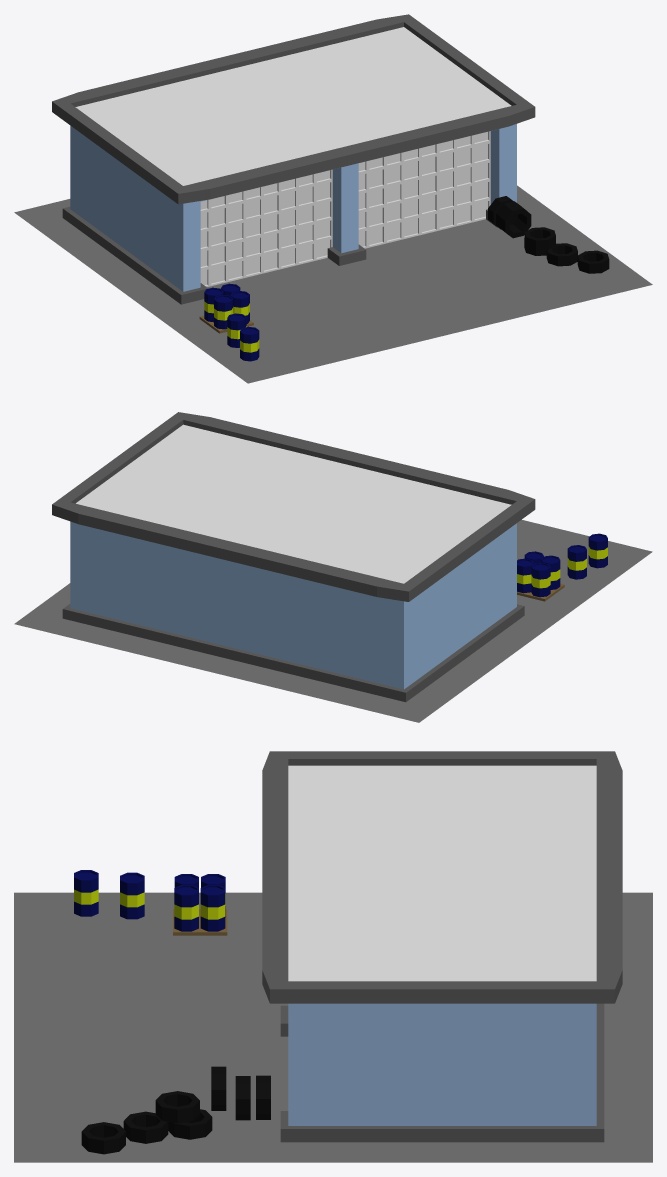
Rendered from 1x1 Commercial Garage.fbx.
3 views of the same model, one above another, from view 1: azimuth 30°, elevation 25°; view 2: azimuth 150°, elevation 25°; view 3: azimuth 270°, elevation 25° (orthographic). The views are drawn at different scales.
Parts seen in each view (by area): view 1: 1x1 Commercial Garage; view 2: 1x1 Commercial Garage; view 3: 1x1 Commercial Garage.
Boxes of the visible parts, bbox=[...] form: 1x1 Commercial Garage: bbox=[14, 14, 652, 383]; 1x1 Commercial Garage: bbox=[14, 412, 652, 722]; 1x1 Commercial Garage: bbox=[14, 751, 652, 1162].
Size of the model in its own units: 1 by 0.272 by 1.
